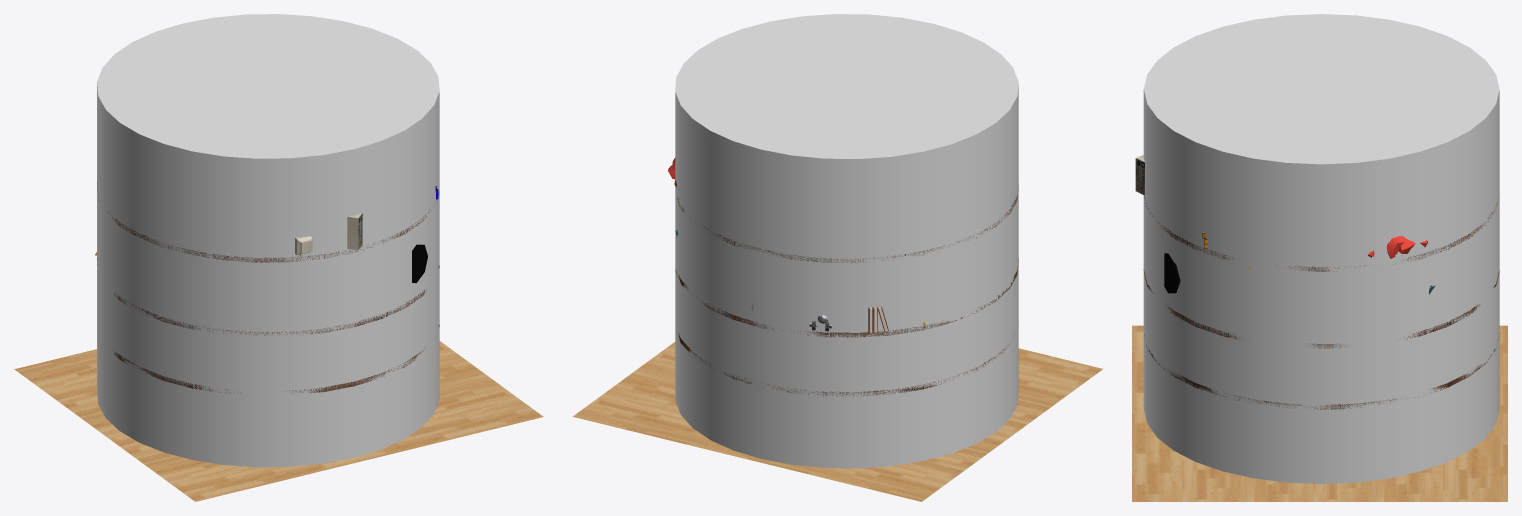
Rendered from modele.glb.
3 views of the same model, side by side, from view 1: azimuth 30°, elevation 25°; view 2: azimuth 150°, elevation 25°; view 3: azimuth 270°, elevation 25° (orthographic). The views are drawn at different scales.
Parts seen in each view (by area): view 1: Sciana, podloga, polki, komputer; view 2: Sciana, podloga, polki; view 3: Sciana, podloga, polki, zegar, Rekawice.
Boxes of the visible parts, x1,y1,x2,y2 form: Sciana: [97, 14, 439, 467]; podloga: [14, 341, 543, 501]; polki: [97, 182, 439, 394]; komputer: [295, 213, 362, 256]; Sciana: [675, 14, 1018, 468]; podloga: [573, 342, 1102, 501]; polki: [675, 184, 1018, 396]; Sciana: [1143, 14, 1499, 483]; podloga: [1132, 325, 1507, 501]; polki: [1143, 195, 1499, 409]; zegar: [1164, 253, 1180, 293]; Rekawice: [1368, 236, 1427, 258].
Size of the model in its own units: 2.34 by 2 by 2.11.
Materials: 18 (17 with a texture image).
